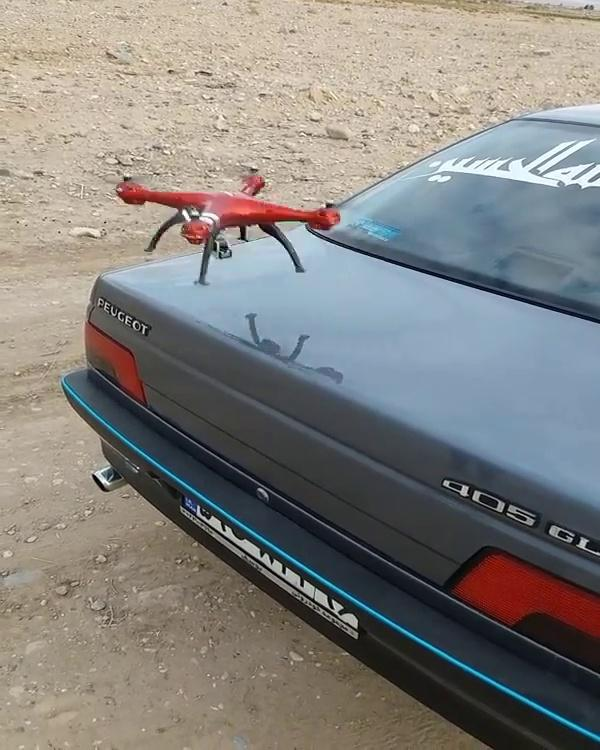drone: (93, 159, 361, 284)
